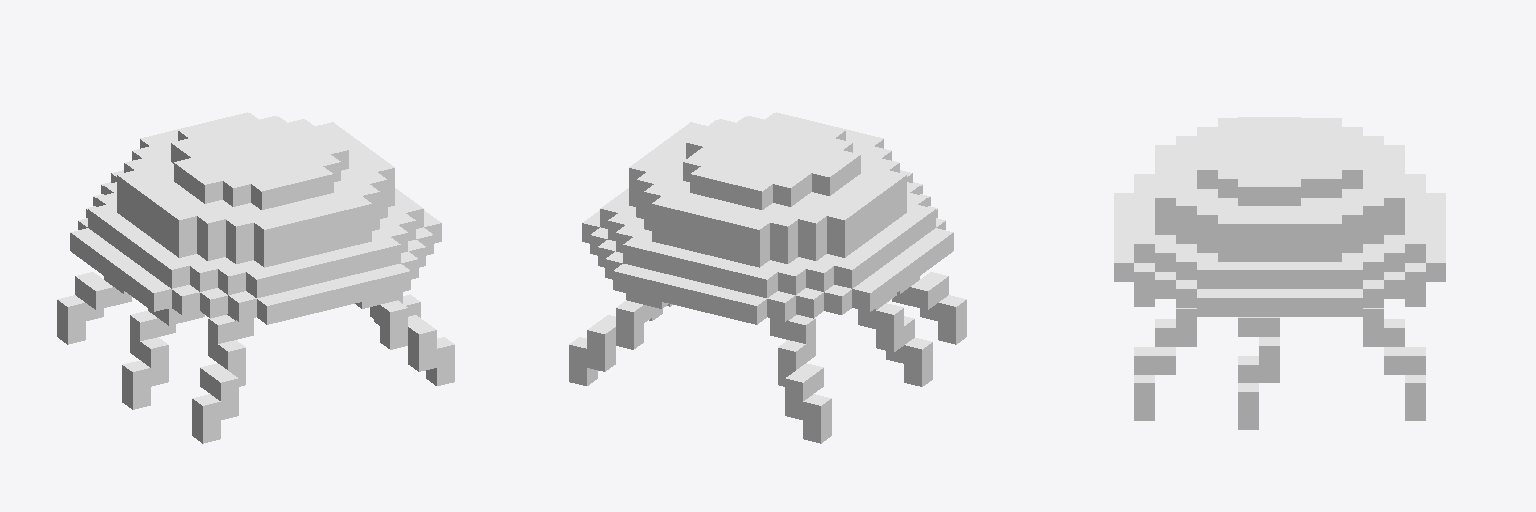
Rendered from jellyfish01.obj.
3 views of the same model, side by side, from view 1: azimuth 30°, elevation 25°; view 2: azimuth 150°, elevation 25°; view 3: azimuth 270°, elevation 25° (orthographic).
Parts seen in each view (by area): view 1: object 1; view 2: object 1; view 3: object 1.
Part boxes in pixels (x1,y1,x2,y2): object 1: (57,112,454,443); object 1: (569,112,966,443); object 1: (1114,117,1445,429).
Size of the model in its own units: 1.6 by 1.1 by 1.6.